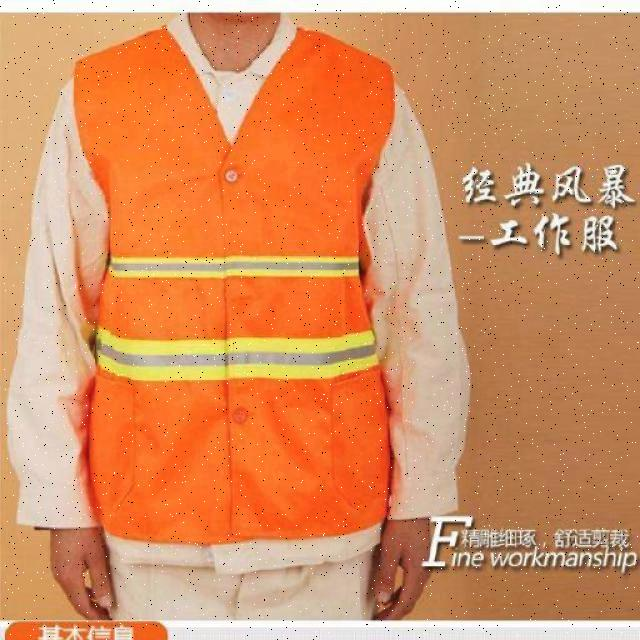Vest: (71, 38, 400, 533)
